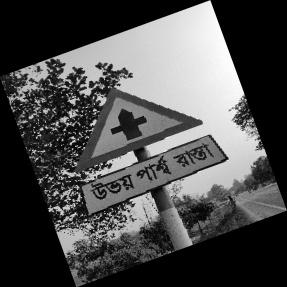Crossroad: (72, 87, 224, 219)
